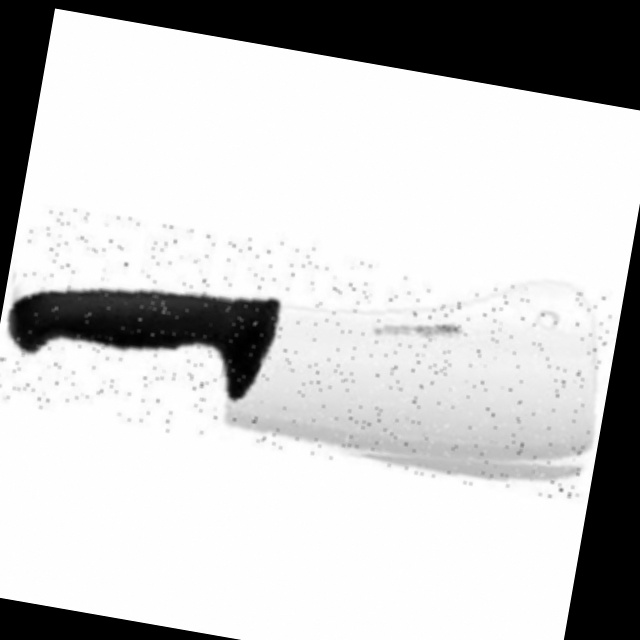Sharp-Object: (0, 197, 617, 503)
